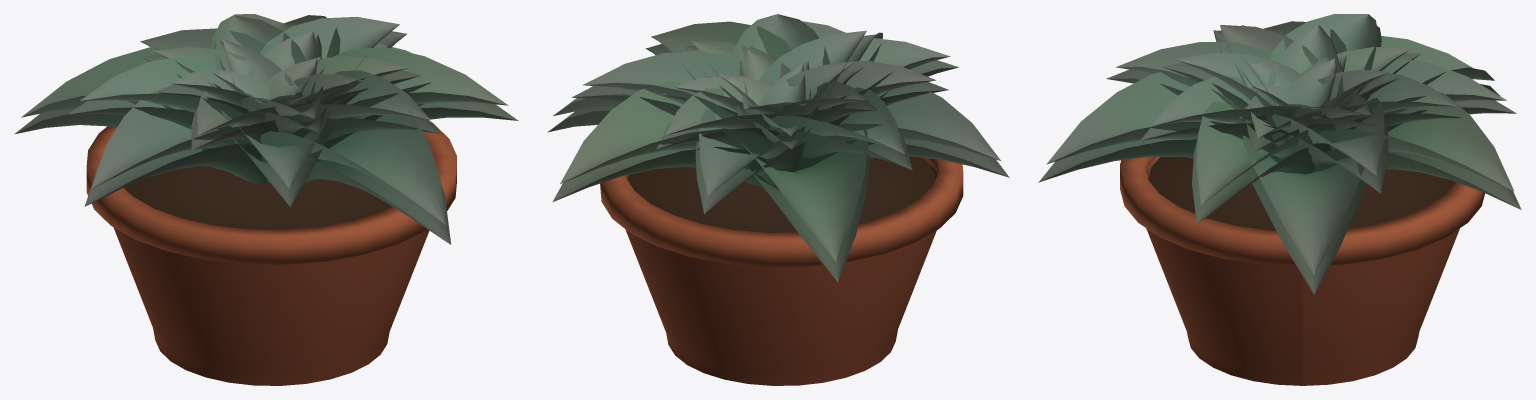
File: echeveria-elegans.glb
3 views of the same model, side by side, from view 1: azimuth 30°, elevation 25°; view 2: azimuth 150°, elevation 25°; view 3: azimuth 270°, elevation 25° (orthographic). The views are drawn at different scales.
Parts seen in each view (by area): view 1: echeveria-elegans; view 2: echeveria-elegans; view 3: echeveria-elegans.
Boxes of the visible parts, x1,y1,x2,y2 form: echeveria-elegans: [14, 14, 518, 385]; echeveria-elegans: [547, 14, 1009, 385]; echeveria-elegans: [1038, 14, 1521, 385].
Bounding box in the file's own units: 0.1461 × 0.0859 × 0.1399.
